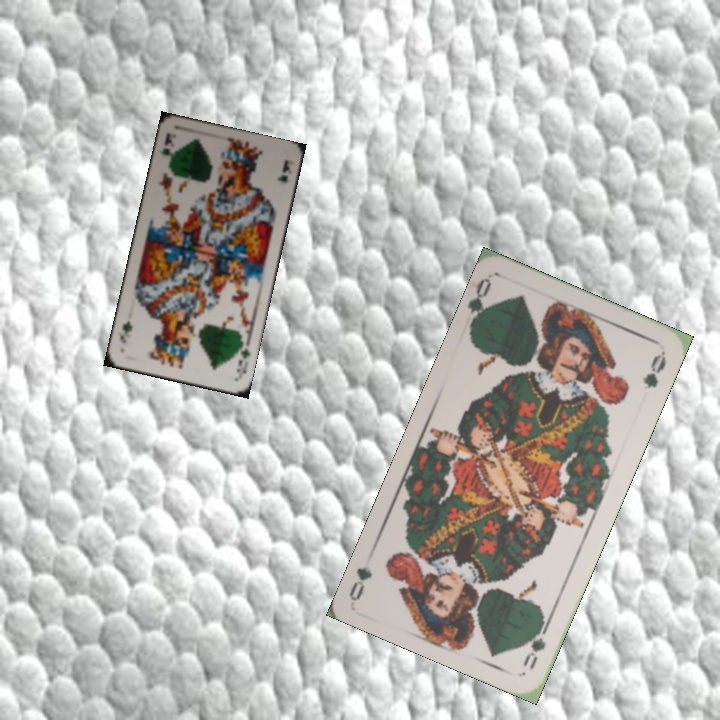GK: (232, 338, 253, 380), (155, 129, 175, 157)
GO: (518, 615, 553, 672), (465, 274, 496, 333)
